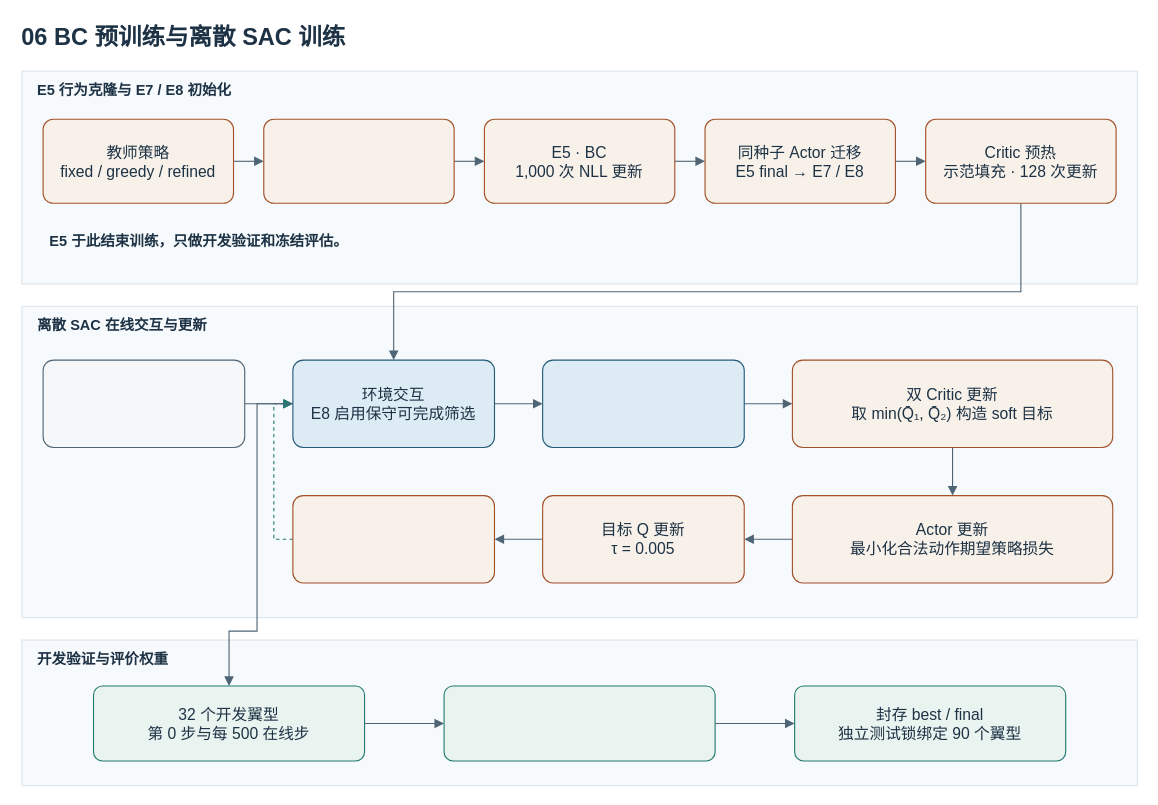
The diagram is 1158 pixels wide and 805 high, and some of its shapes have lost their labels. Each missing label, with the centre of its shape:
"E6 · 冷启动 随机初始化 · 前 128 步 采样合法动作" goes at (x=143, y=403).
"合法示范重放 124 条，496 个决策" goes at (x=358, y=160).
"温度 α E6–E8 · ½ log K合法" goes at (x=393, y=538).
"独立选择 best 成功率优先，其次编辑数等" goes at (x=579, y=723).
"经验回放 批量 32 · 容量 2,048" goes at (x=643, y=403).
